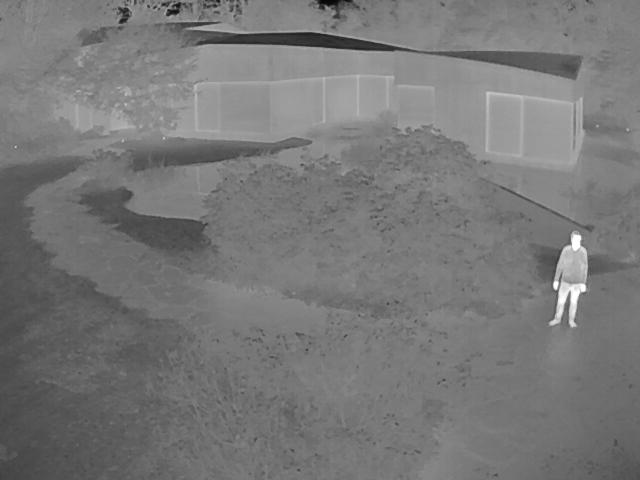person: (548, 230, 590, 328)
